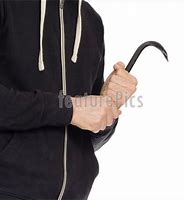crowbar: (83, 39, 170, 134)
